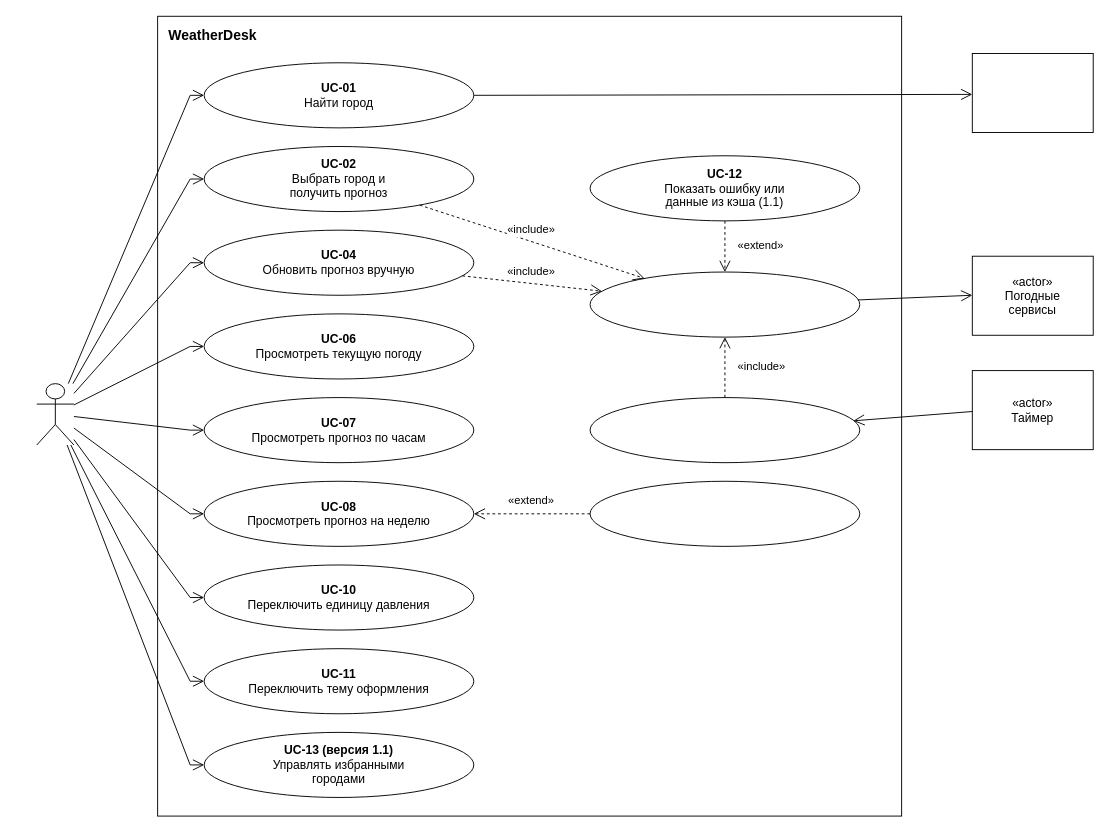
This 1109x832 diagram has some shape labels left out. The box of each missing label's shape, as (x1, y1, x2, y2) in pixels:
UC-03 Получить и объединить данные источников: (589, 271, 860, 337)
UC-05 Обновлять прогноз по таймеру: (589, 397, 860, 463)
UC-09 Выбрать день недели: (589, 480, 860, 546)
«actor» Сервис геокодинга: (971, 53, 1093, 133)
Пользователь: (36, 383, 74, 445)
